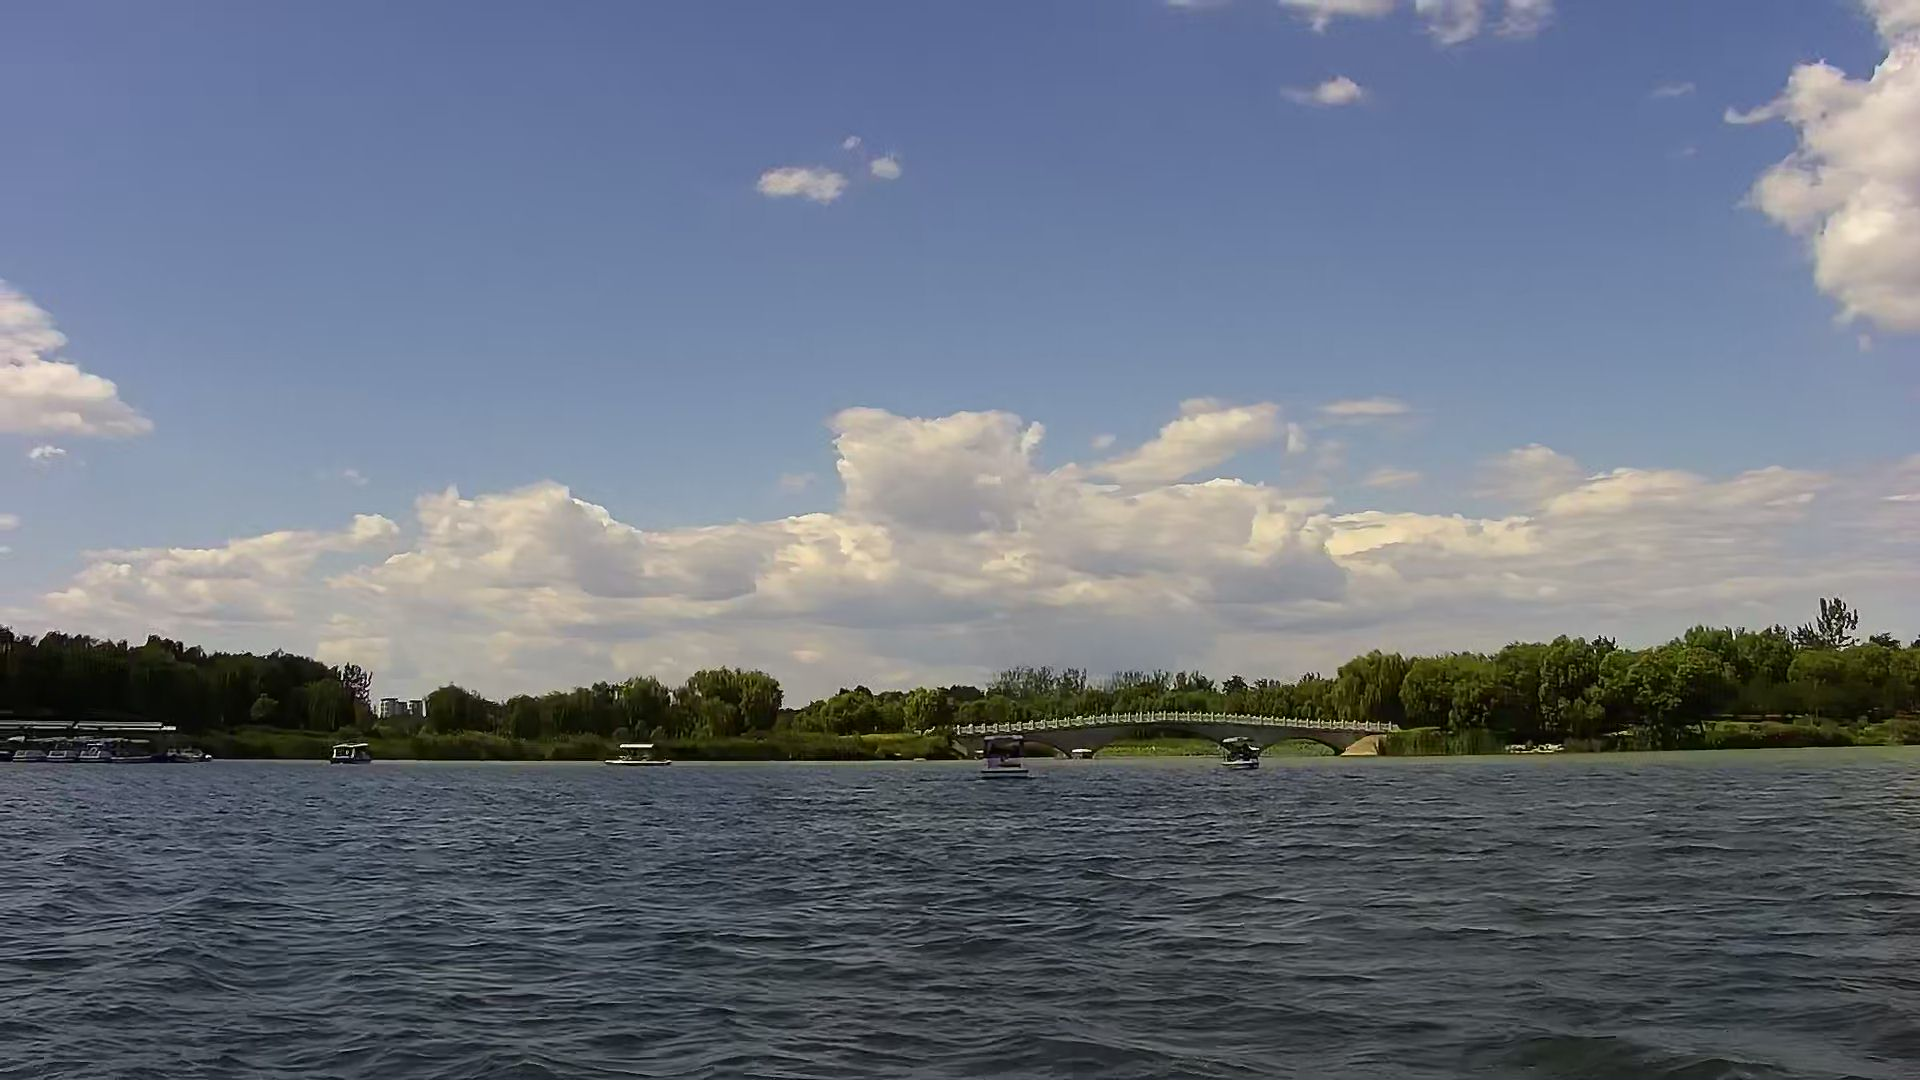boat: (975, 723, 1039, 782), (603, 735, 676, 777), (1217, 736, 1271, 775), (327, 735, 372, 769)
bridge: (945, 713, 1385, 760)
